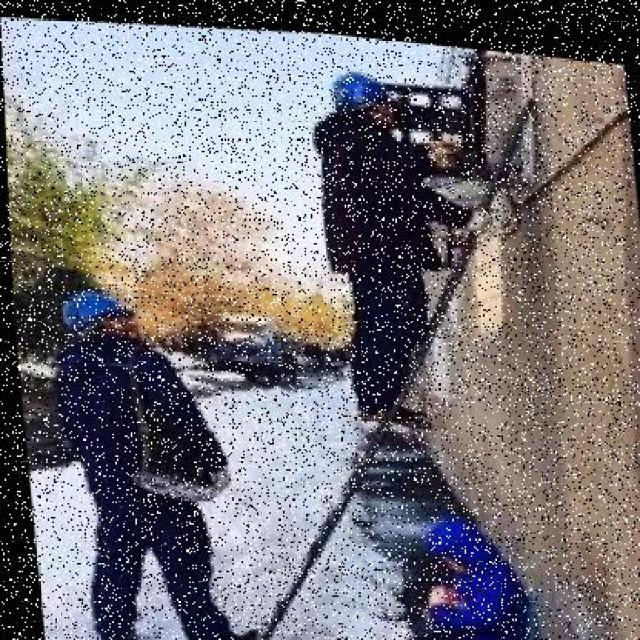helmet: (49, 277, 135, 331), (315, 56, 397, 107)
